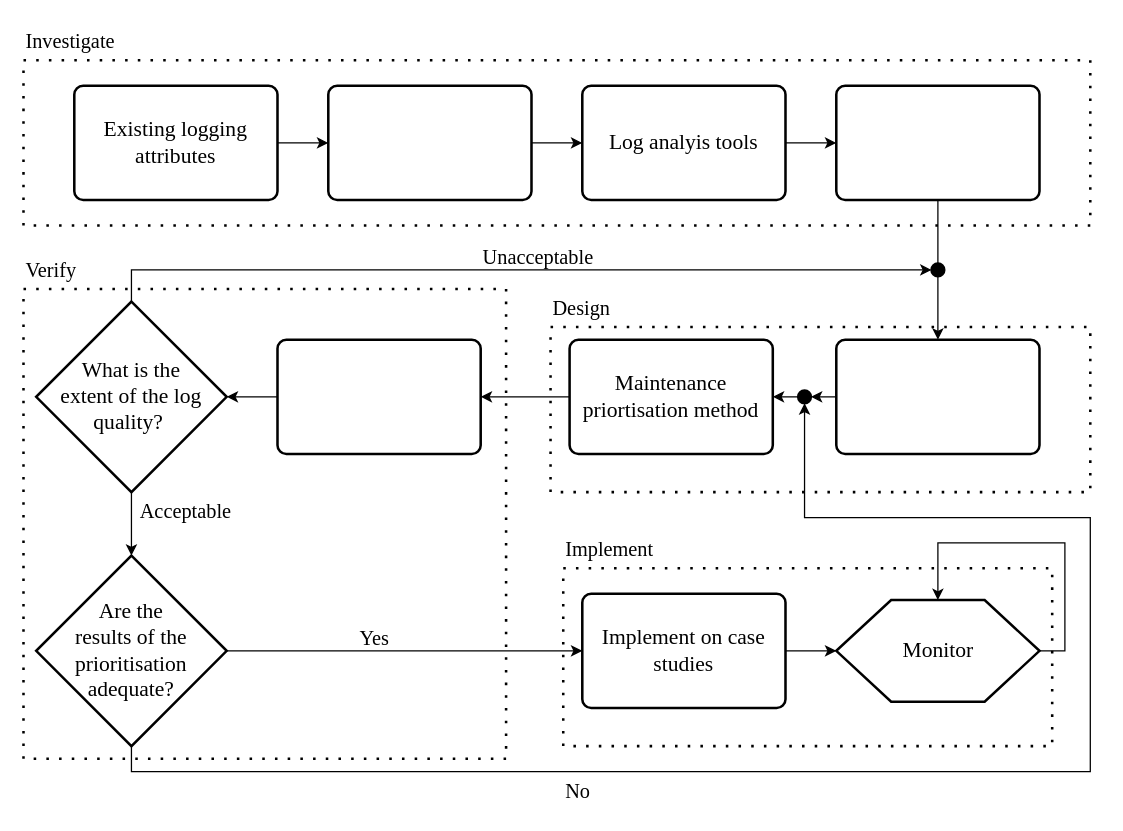
The diagram is 1123 pixels wide and 831 high, and some of its shapes have lost their labels. The shapes that lost their labels are listed below. From the top down, each one's centre as x and y in pixels, then its label:
[429,142]: Logging point placement
[937,142]: Maintenance priotisation methods
[378,396]: Create test case for verification
[937,396]: Logging mechanism
